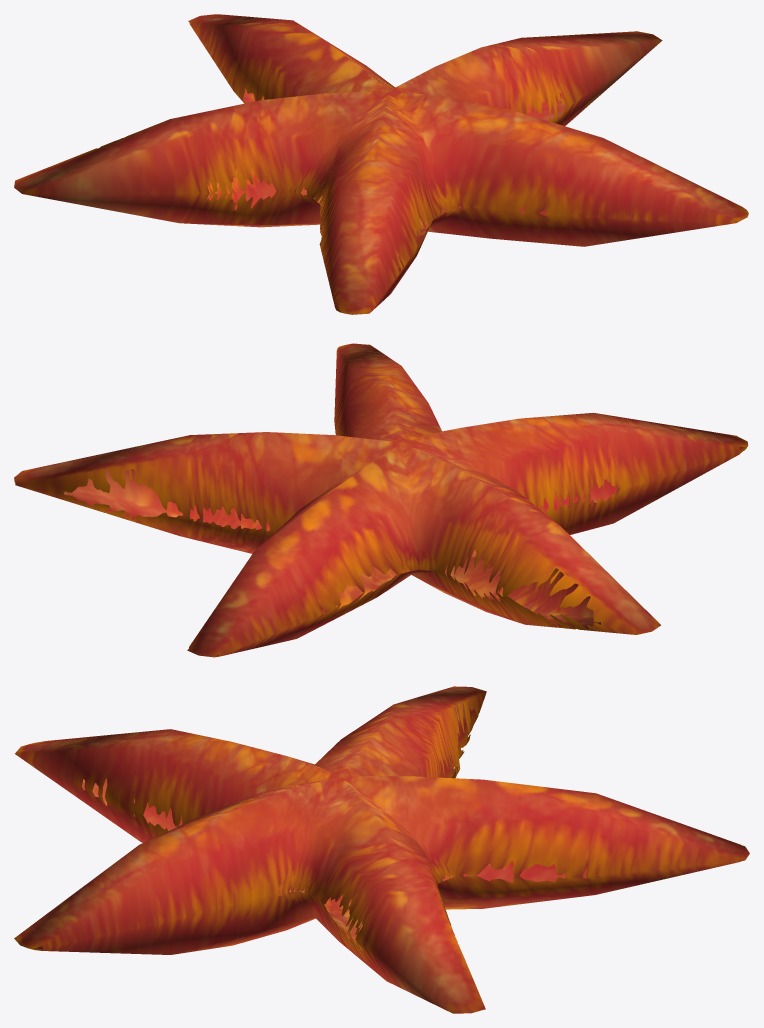
File: starfish_2.fbx
3 views of the same model, one above another, from view 1: azimuth 30°, elevation 25°; view 2: azimuth 150°, elevation 25°; view 3: azimuth 270°, elevation 25° (orthographic). The views are drawn at different scales.
Parts seen in each view (by area): view 1: starfish_2; view 2: starfish_2; view 3: starfish_2.
Part boxes in pixels (box(x1,y1,x2,y2)): starfish_2: box(14, 14, 748, 314); starfish_2: box(14, 343, 748, 657); starfish_2: box(14, 686, 749, 1013).
Bounding box in the file's own units: 27.16 × 5.45 × 26.02.
